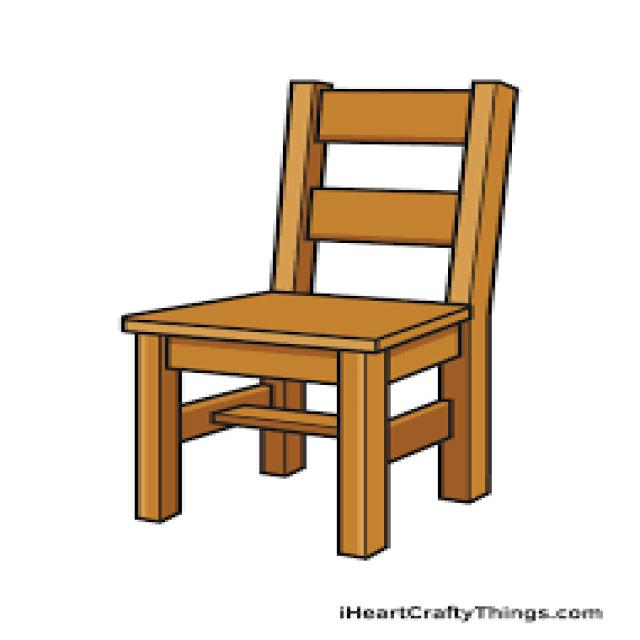chair: (40, 45, 595, 577)
